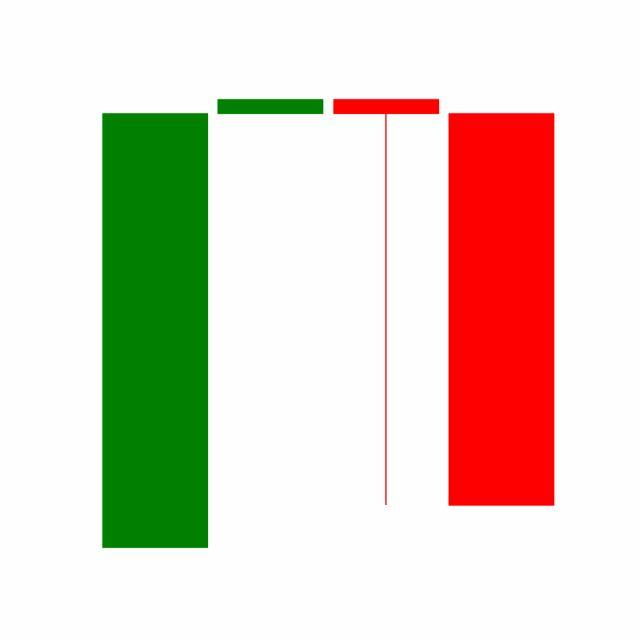Dragonfly Doji: (329, 95, 445, 511)
